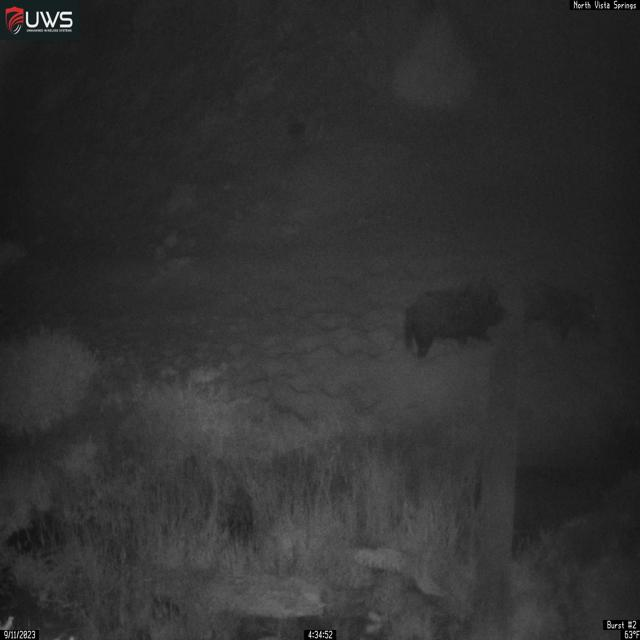pig: (403, 277, 506, 360)
